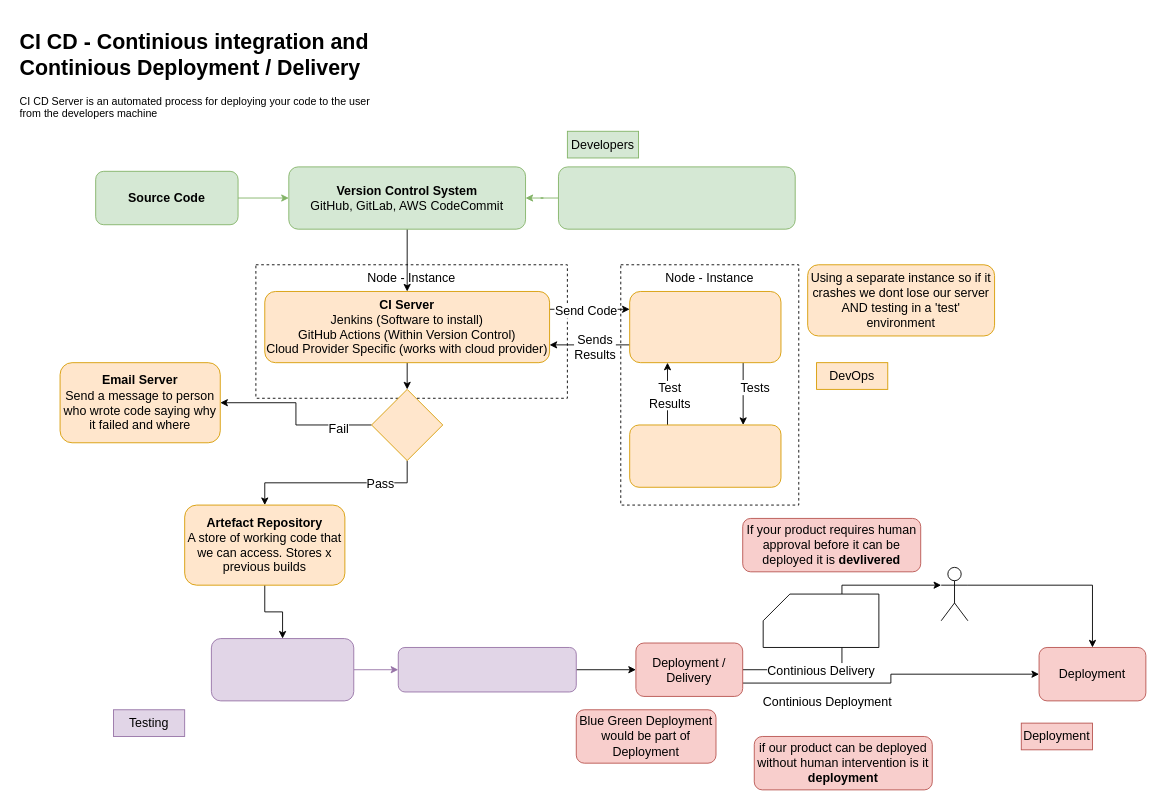
This 1161x805 diagram has some shape labels left out. Here are the shapes that lost their labels. From the top down, the centre of each, then its label:
At (676,197): "Kanban Board (Project Tracking)".
At (705,327): "Build Tool".
At (407,424): "Test Result".
At (705,455): "Automated Testing".
At (954,593): "Approver".
At (820,620): "cool_build_v1.23".
At (282,669): "Penetration Testing How does the software hold up as a built tool".
At (486,669): "Testing within the environment UAT (User Acceptance Testing)".
